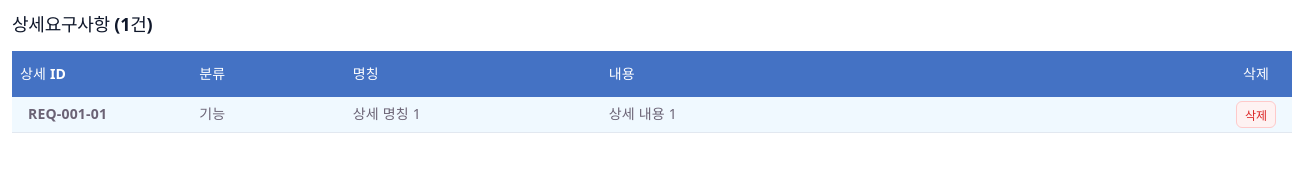
Scenario: DetailReqTable — 셀 클릭 편집 전환 › content 셀 클릭 시 InlineEditCell(textarea)이 렌더링된다
What coordinates should you click on to do the following:
click the cell with test id "cell-REQ-001-01-content"
I would click on:
 (643, 114)
Its box is [601,97,1220,133].
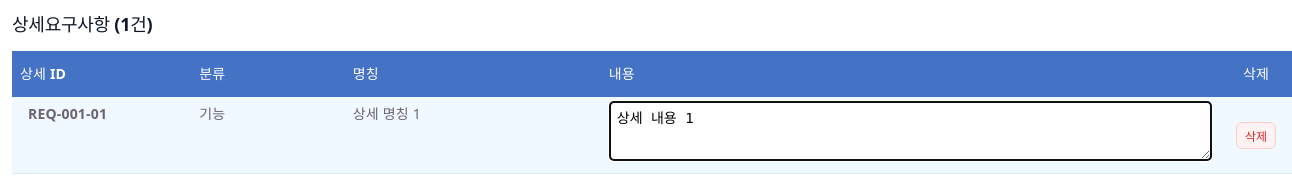
Expected: the text box with test id "inline-edit-textarea" is shown, [609,101,1212,161]
